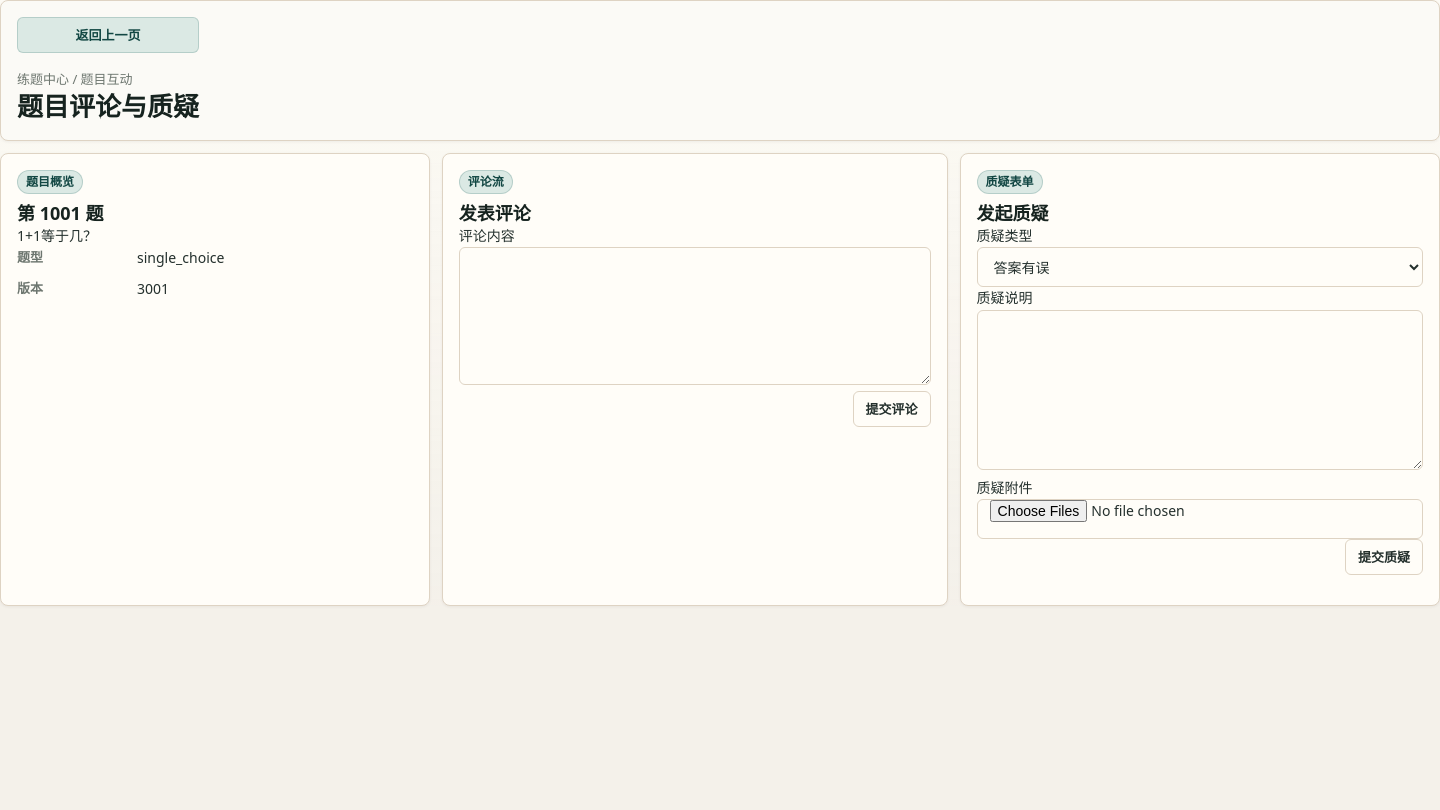
Test: QuestionFeedbackPage › submits question comment
Expected: the heading "题目评论与质疑" is shown, [17,90,199,124]
Expected: the text "1+1等于几？" is shown, [17,226,97,245]
Type "这题还可以补一个口算思路。" into the text box labelled "评论内容" at (695, 316), box [459,247,930,385]
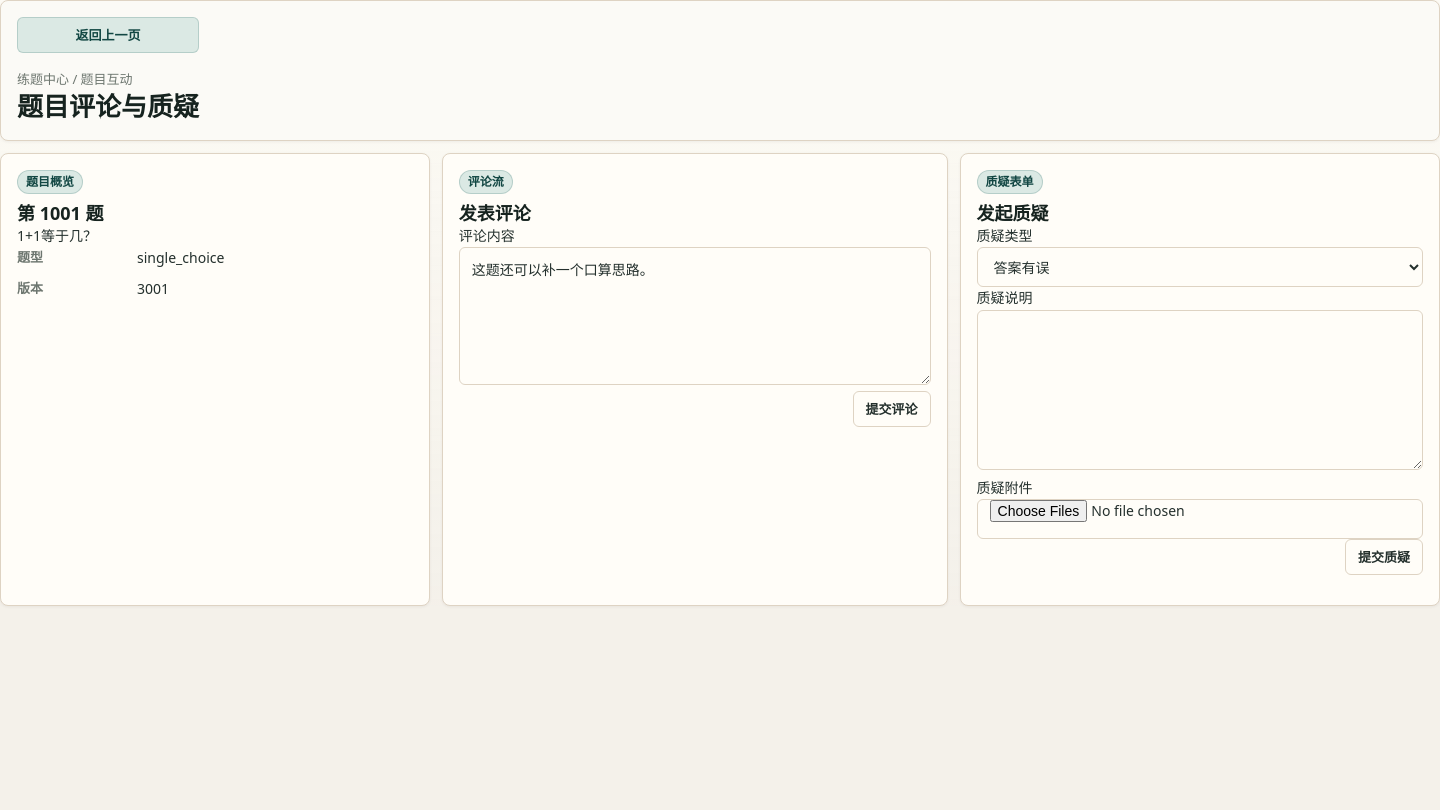
Click the button "提交评论" at (892, 409), box [852,391,930,427]
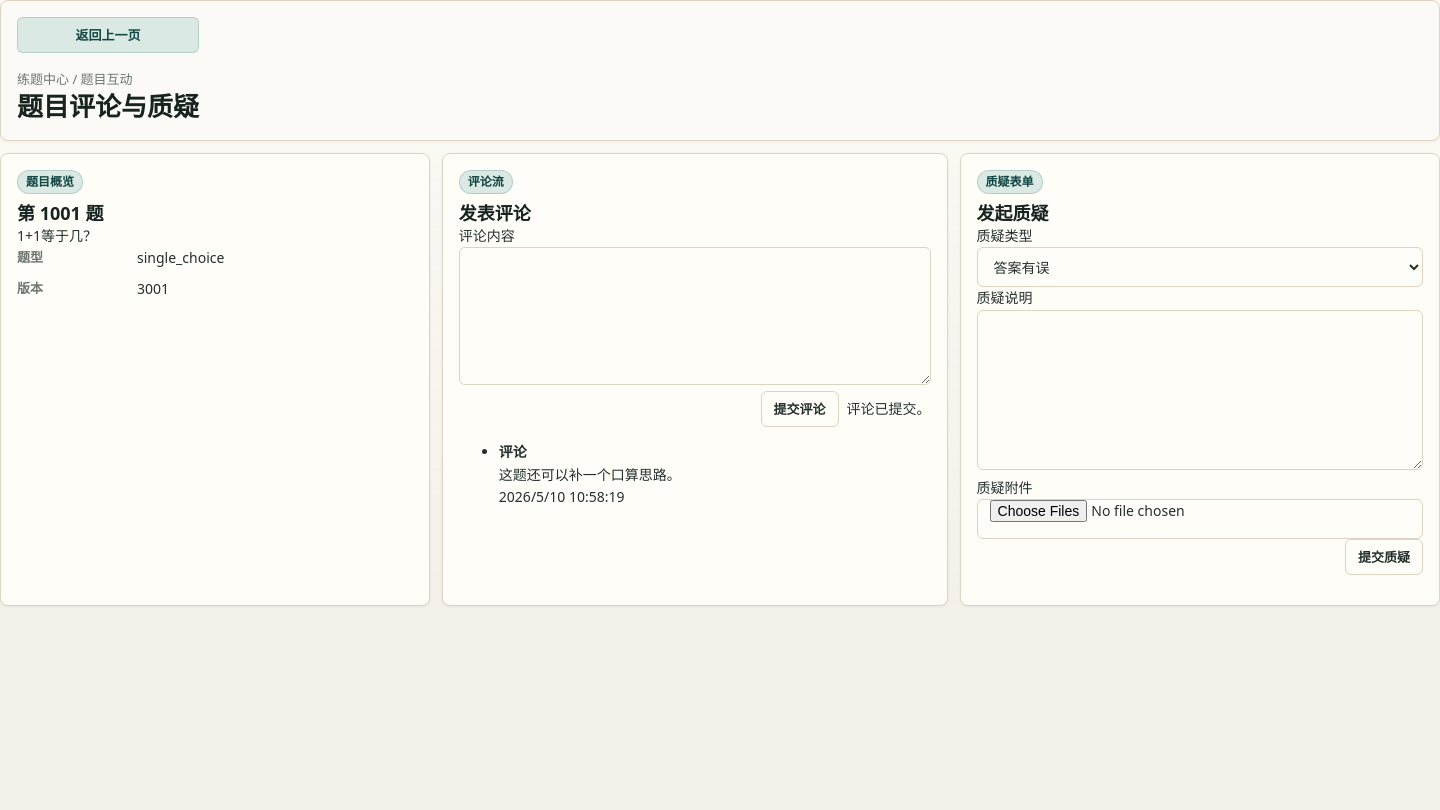
Expected: the text "评论已提交。" is shown, [847,398,931,420]
Expected: the text "这题还可以补一个口算思路。" is shown, [499,465,681,484]
